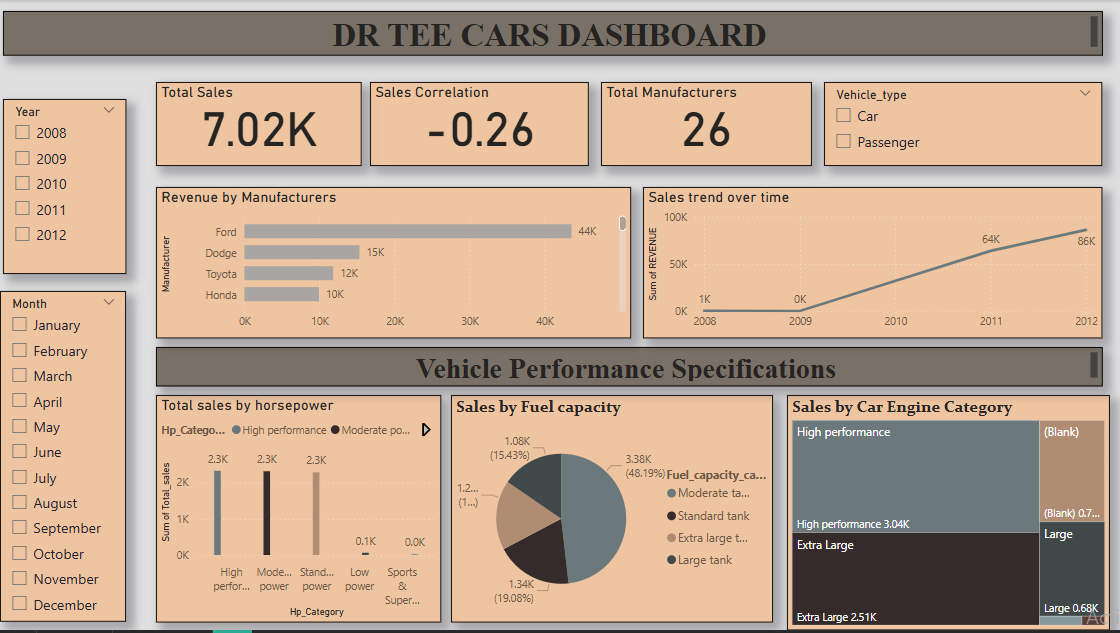

The dashboard page shown, as its layout file describes it:
{"tool":"powerbi","page":{"name":"Dashboard ","canvas":[1280,720],"ordinal":2},"visuals":[{"type":"textbox","box":[3.4,12.4,1256.6,50.6],"z":0},{"type":"clusteredBarChart","title":"Revenue by Manufacturers","fields":{"Category":["Car_sales.Manufacturer"],"Y":["Sum(Car_sales.REVENUE)"]},"box":[177.8,213.8,543.4,173.2],"z":1000},{"type":"slicer","title":"Sales by Vehicle type","fields":{"Values":["Car_sales.Vehicle_type"]},"box":[941.6,93.4,318.4,95.6],"z":2000},{"type":"lineChart","title":"Sales trend over time ","fields":{"Category":["Car_sales.Latest_Launch.Variation.Date Hierarchy.Year"],"Y":["Sum(Car_sales.REVENUE)"]},"box":[734.6,213.8,525.4,173.2],"z":3000},{"type":"clusteredColumnChart","title":"Total sales by horsepower ","fields":{"Category":["Car_sales.Hp_Category"],"Series":["Car_sales.Hp_Category"],"Y":["Sum(Car_sales.Total_sales )"]},"box":[177.8,451.1,326.2,259.9],"z":4000},{"type":"card","title":"Total Sales","fields":{"Values":["Sum(Car_sales.Total_sales )"]},"box":[177.8,93.4,235.1,95.6],"z":5000},{"type":"card","title":"Sales Correlation","fields":{"Values":["Car_sales.Price Sales Correlation"]},"box":[423,93.4,249.8,95.6],"z":6000},{"type":"slicer","fields":{"Values":["Car_sales.Latest_Launch.Variation.Date Hierarchy.Month"]},"box":[0,333,144,378],"z":7000},{"type":"pieChart","title":"Sales by  Fuel capacity ","fields":{"Category":["Car_sales.Fuel_capacity_category"],"Series":["Car_sales.Fuel_capacity_category"],"Y":["Sum(Car_sales.Total_sales )"]},"box":[515.2,451.1,367.9,259.9],"z":8000},{"type":"slicer","fields":{"Values":["Car_sales.Latest_Launch.Variation.Date Hierarchy.Year"]},"box":[3.4,113.6,140.6,200.2],"z":9000},{"type":"treemap","title":"Sales by Car Engine Category","fields":{"Values":["Sum(Car_sales.Total_sales )"],"Group":["Car_sales.CarEngine_category"],"Details":["Car_sales.CarEngine_category"]},"box":[898.9,451.1,369,268.9],"z":10000},{"type":"card","title":"Total Manufacturers","fields":{"Values":["Count(Car_sales.Manufacturer)"]},"box":[687.4,93.4,240.8,95.6],"z":11000},{"type":"textbox","box":[177.8,396,1082.2,45],"z":11001}]}

Visuals, with their boxes in screenshot pixels (x1, y1, x2, y2), scaled from the page's 1280x720 canvas onto the 1120x633 screenshot:
textbox: BBox(3, 11, 1102, 55)
"Revenue by Manufacturers" clusteredBarChart: BBox(156, 188, 631, 340)
"Sales by Vehicle type" slicer: BBox(824, 82, 1102, 166)
"Sales trend over time " lineChart: BBox(643, 188, 1102, 340)
"Total sales by horsepower " clusteredColumnChart: BBox(156, 397, 441, 625)
"Total Sales" card: BBox(156, 82, 361, 166)
"Sales Correlation" card: BBox(370, 82, 589, 166)
slicer - Car_sales.Latest_Launch.Variation.Date Hierarchy.Month: BBox(0, 293, 126, 625)
"Sales by  Fuel capacity " pieChart: BBox(451, 397, 773, 625)
slicer - Car_sales.Latest_Launch.Variation.Date Hierarchy.Year: BBox(3, 100, 126, 276)
"Sales by Car Engine Category" treemap: BBox(787, 397, 1109, 632)
"Total Manufacturers" card: BBox(601, 82, 812, 166)
textbox: BBox(156, 348, 1102, 388)
